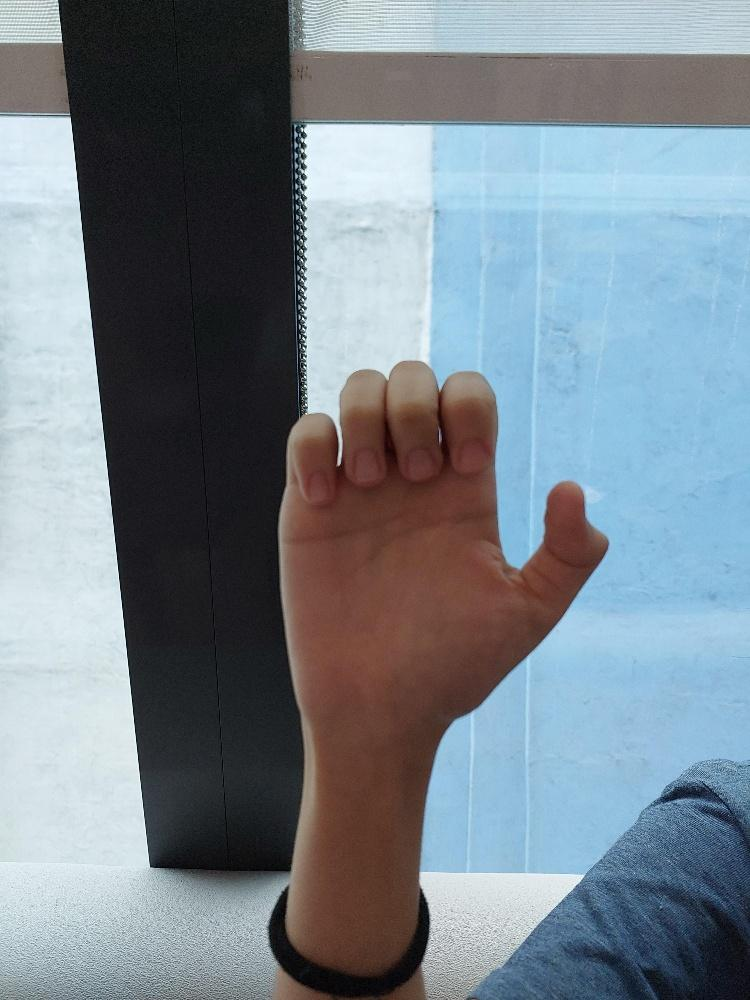e: (277, 357, 612, 715)
